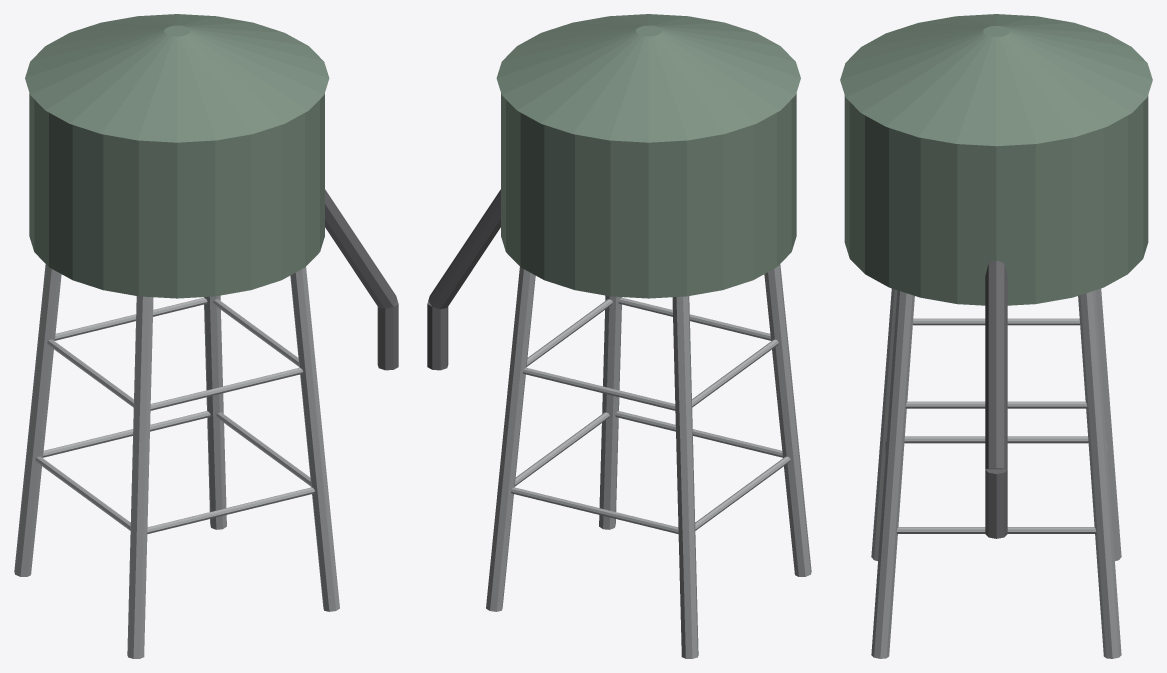
File: WaterTower.glb
3 views of the same model, side by side, from view 1: azimuth 30°, elevation 25°; view 2: azimuth 150°, elevation 25°; view 3: azimuth 270°, elevation 25° (orthographic). The views are drawn at different scales.
Visible parts, largest first — view 1: Tank, Tank roof, Member.087, Member.089, Member.088, Member.090, Member.099, Member.100, Member.091, Member.095, Member.093, Member.097 (+4 smaller); view 2: Tank, Tank roof, Member.088, Member.090, Member.087, Member.089, Member.099, Member.100, Member.093, Member.097, Member.091, Member.095 (+4 smaller); view 3: Tank, Tank roof, Member.089, Member.090, Member.099, Member.087, Member.088, Member.100, Member.094, Member.096, Member.092, Member.098.
Boxes of the visible parts, <box> form: Tank: <box>29,93,324,298</box>; Tank roof: <box>25,14,329,142</box>; Member.087: <box>127,296,153,658</box>; Member.089: <box>290,267,339,611</box>; Member.088: <box>14,264,61,576</box>; Member.090: <box>203,295,226,529</box>; Member.099: <box>325,189,397,309</box>; Member.100: <box>377,301,398,370</box>; Member.091: <box>147,487,314,534</box>; Member.095: <box>150,367,303,410</box>; Member.093: <box>43,411,210,457</box>; Member.097: <box>55,297,207,340</box>; Tank: <box>501,93,796,298</box>; Tank roof: <box>496,14,800,142</box>; Member.088: <box>672,296,698,658</box>; Member.090: <box>486,267,535,611</box>; Member.087: <box>764,264,811,576</box>; Member.089: <box>599,295,622,529</box>; Member.099: <box>428,189,500,309</box>; Member.100: <box>427,301,448,370</box>; Member.093: <box>511,487,678,534</box>; Member.097: <box>522,367,675,410</box>; Member.091: <box>615,411,782,457</box>; Member.095: <box>618,297,770,340</box>; Tank: <box>844,95,1148,305</box>; Tank roof: <box>840,14,1152,146</box>; Member.089: <box>871,290,914,658</box>; Member.090: <box>1078,290,1121,658</box>; Member.099: <box>985,261,1007,469</box>; Member.087: <box>871,288,897,560</box>; Member.088: <box>1095,288,1121,560</box>; Member.100: <box>985,469,1007,538</box>; Member.094: <box>904,436,1088,443</box>; Member.096: <box>905,401,1087,408</box>; Member.092: <box>896,527,1096,533</box>; Member.098: <box>913,318,1079,325</box>.
Bounding box in the file's own units: 9.35 × 14.22 × 7.
